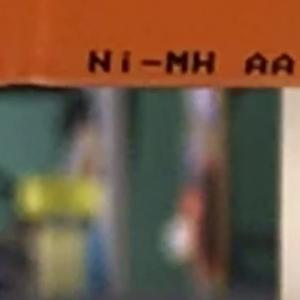keyword: (78, 41, 225, 83)
